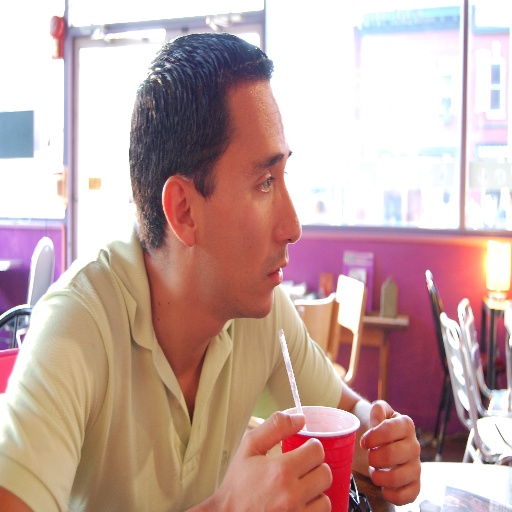hand: (225, 408, 332, 506), (357, 396, 420, 507)
